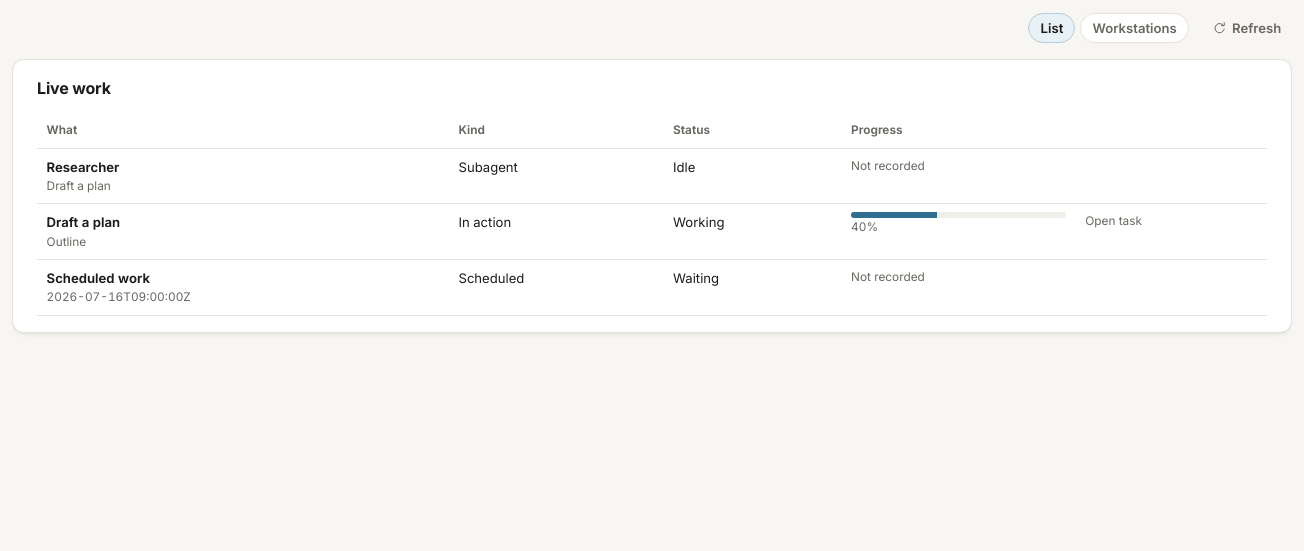
Test: WorkInActionView › shows real subagent assignment, task progress, and waiting schedules
Expected: the text "Researcher" is shown, left=47, top=159, right=119, bottom=175
Expected: the text "Scheduled work" is shown, left=47, top=270, right=150, bottom=286
Click the button "Workstations".
click(1135, 28)  # box left=1080, top=13, right=1189, bottom=43
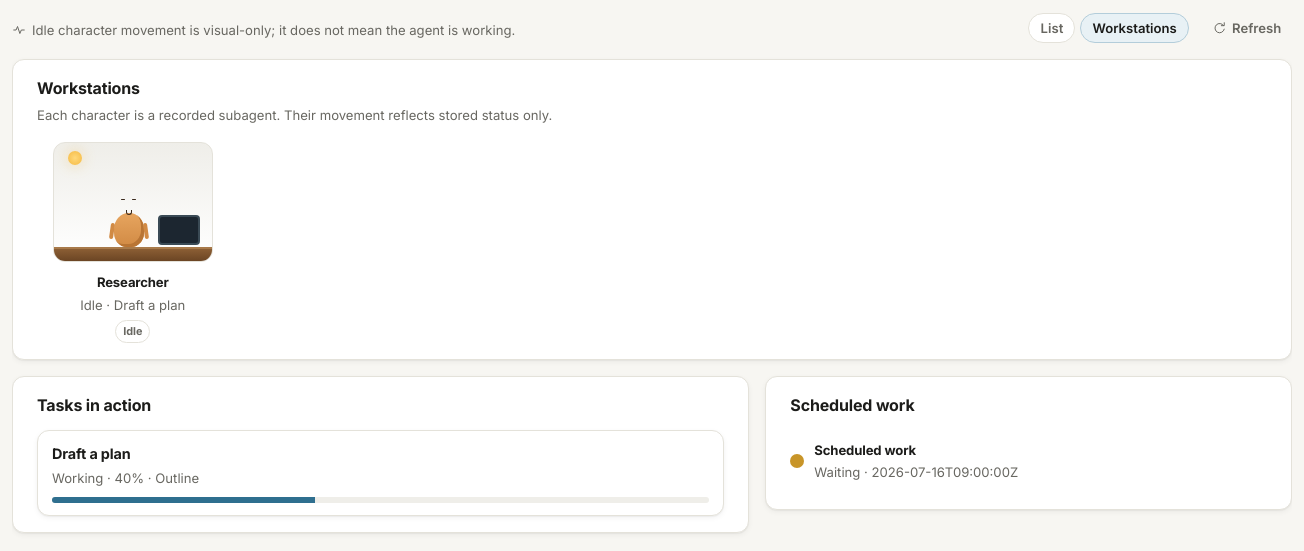
Expected: the text "Idle · Draft a plan" is shown, left=80, top=295, right=185, bottom=315
Expected: the text "Working · 40% · Outline" is shown, left=52, top=470, right=199, bottom=486
Expected: the text "Waiting · 2026-07-16T09:00:00Z" is shown, left=814, top=462, right=1018, bottom=483
